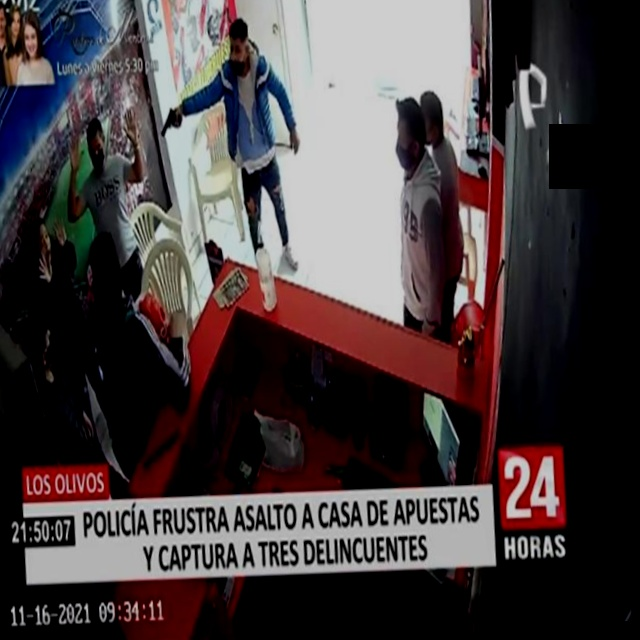gun: (154, 89, 191, 145)
